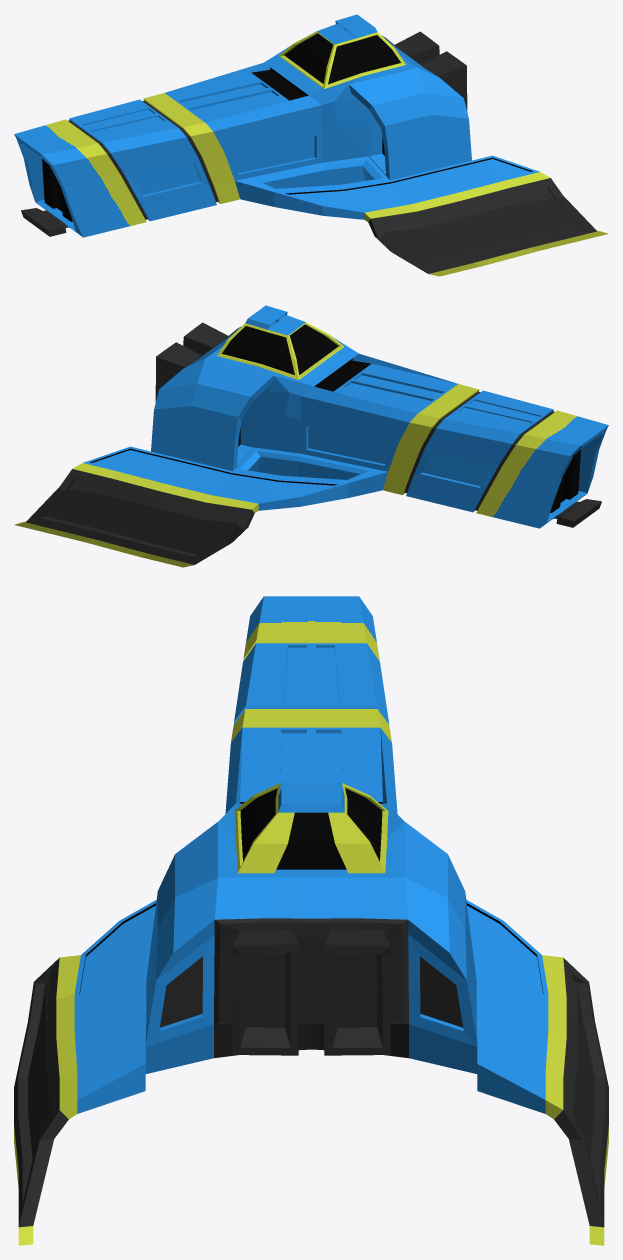
File: fripeout_ship_1.gltf
3 views of the same model, one above another, from view 1: azimuth 30°, elevation 25°; view 2: azimuth 150°, elevation 25°; view 3: azimuth 270°, elevation 25° (orthographic). The views are drawn at different scales.
Visible parts, largest first — view 1: Spaceship; view 2: Spaceship; view 3: Spaceship.
Boxes of the visible parts, left/top/right/bottom form: Spaceship: left=14, top=14, right=608, bottom=276; Spaceship: left=14, top=305, right=608, bottom=567; Spaceship: left=14, top=596, right=608, bottom=1245.
Bounding box in the file's own units: 12.43 × 4.51 × 7.72.
Materials: 1 (1 with a texture image).
